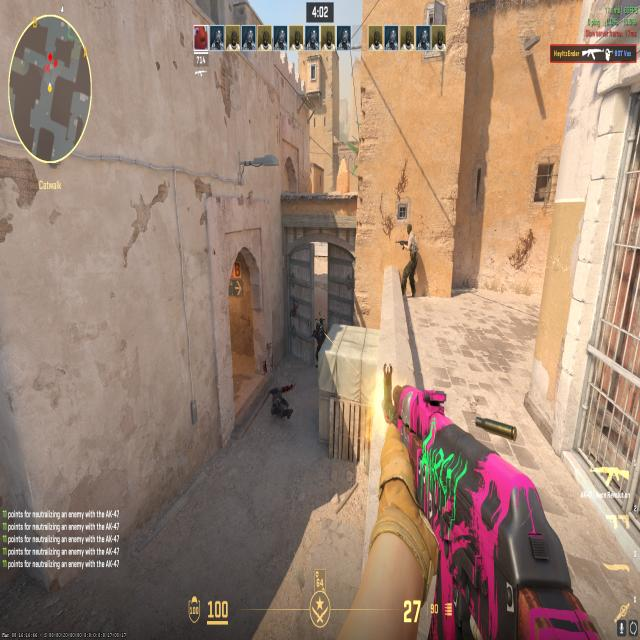ct: (311, 321, 323, 361)
t: (400, 221, 418, 301), (319, 313, 327, 336)
